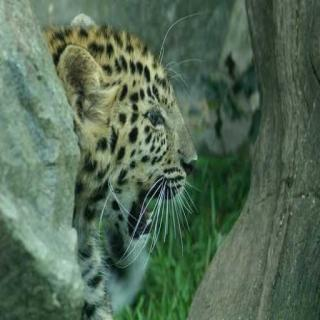Leopard: (41, 14, 208, 304)
